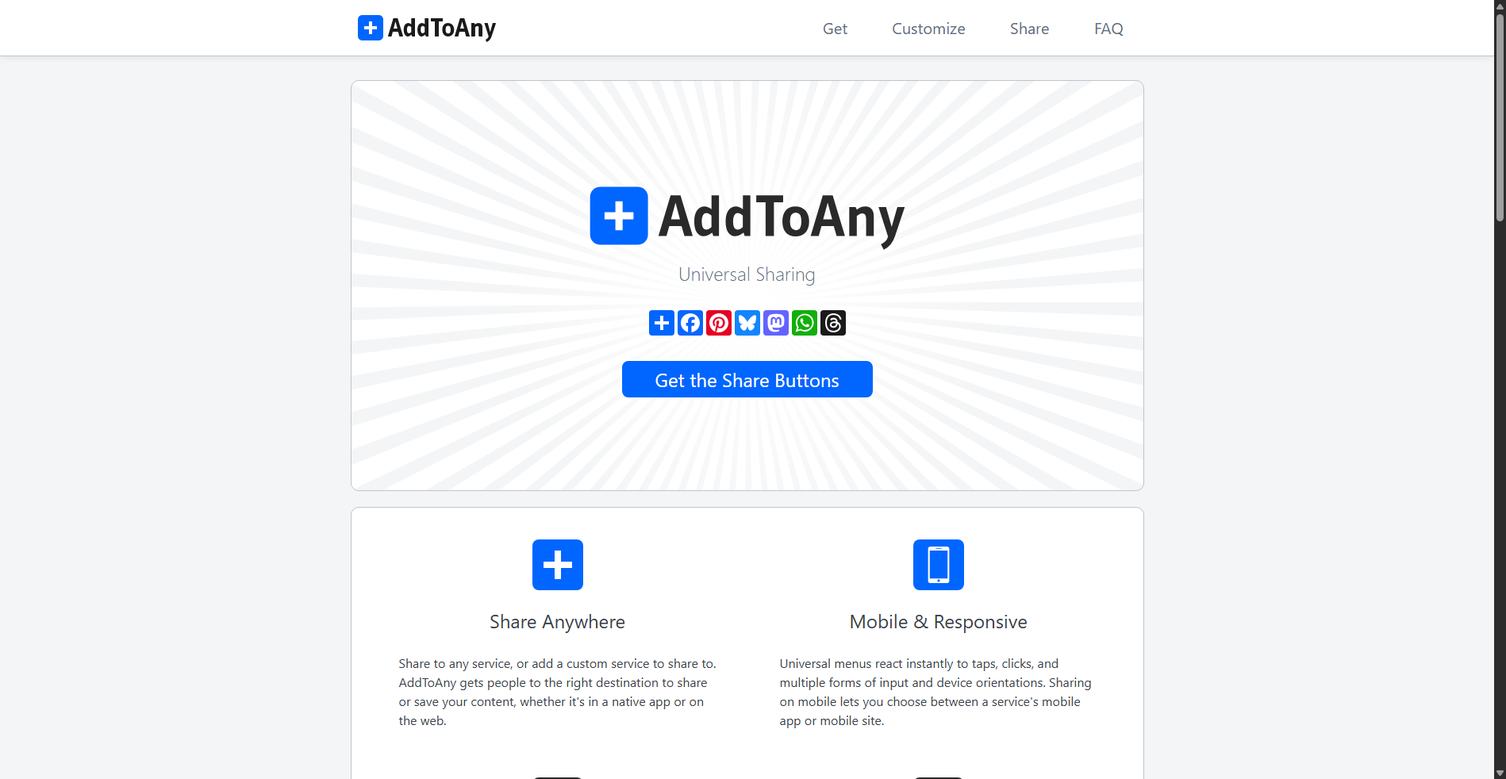general_button: (367, 310, 1127, 336), (704, 310, 733, 336), (761, 310, 790, 336), (818, 310, 847, 336), (676, 310, 704, 336), (733, 310, 761, 336), (790, 310, 818, 336)
general_link: (620, 359, 874, 399), (871, 0, 986, 56), (989, 0, 1070, 56), (1073, 0, 1144, 56), (802, 0, 868, 56), (647, 310, 676, 336)
